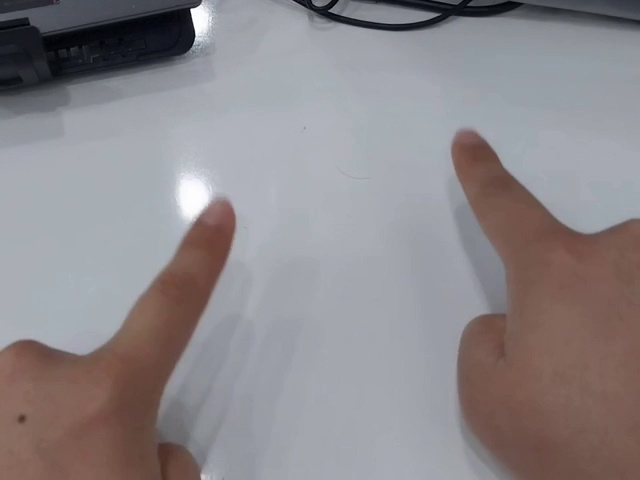fingers: (188, 195, 236, 244), (450, 128, 499, 173)
